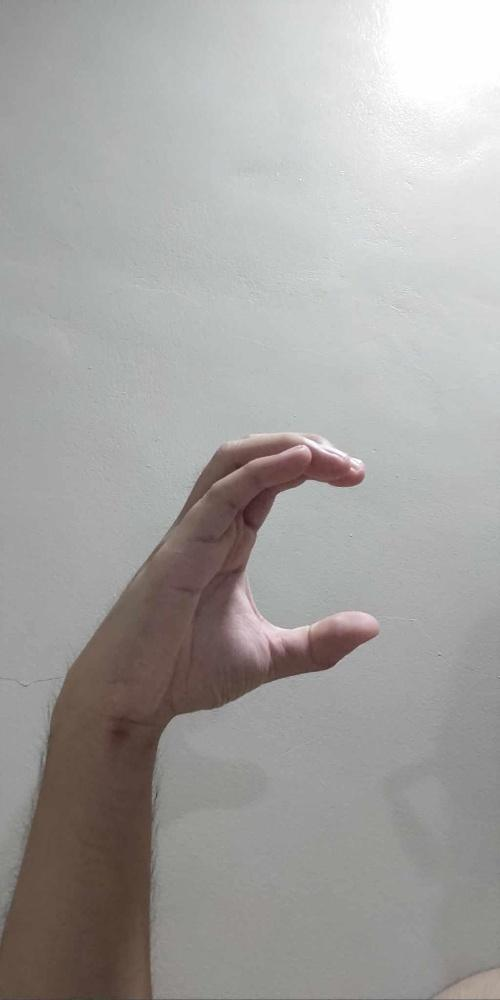c: (92, 429, 381, 728)
